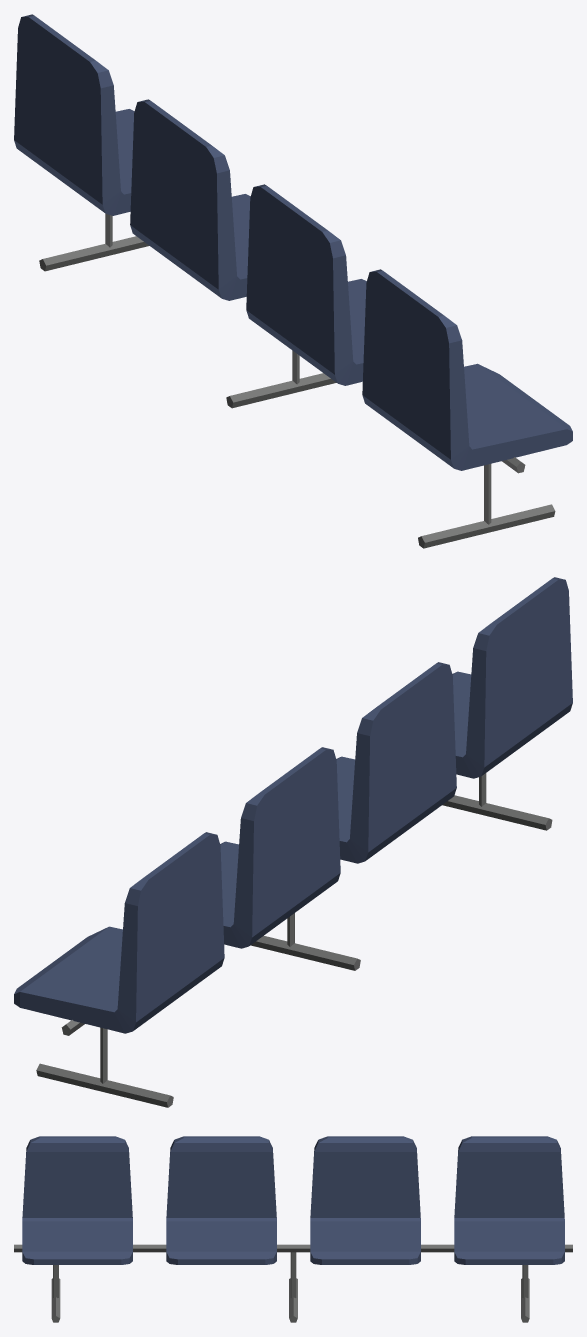
File: SM_Chair_01.glb
3 renders of one model, top to bottom at view 1: azimuth 30°, elevation 25°; view 2: azimuth 150°, elevation 25°; view 3: azimuth 270°, elevation 25°, orthographic. The views are drawn at different scales.
Visible parts, largest first — view 1: SM_Chair_01; view 2: SM_Chair_01; view 3: SM_Chair_01.
Boxes of the visible parts, left/top/right/bottom form: SM_Chair_01: left=14, top=14, right=572, bottom=548; SM_Chair_01: left=14, top=577, right=572, bottom=1107; SM_Chair_01: left=14, top=1136, right=572, bottom=1322.
Size of the model in its own units: 0.5063 by 0.8824 by 3.02.
1 material, 1 textured.
